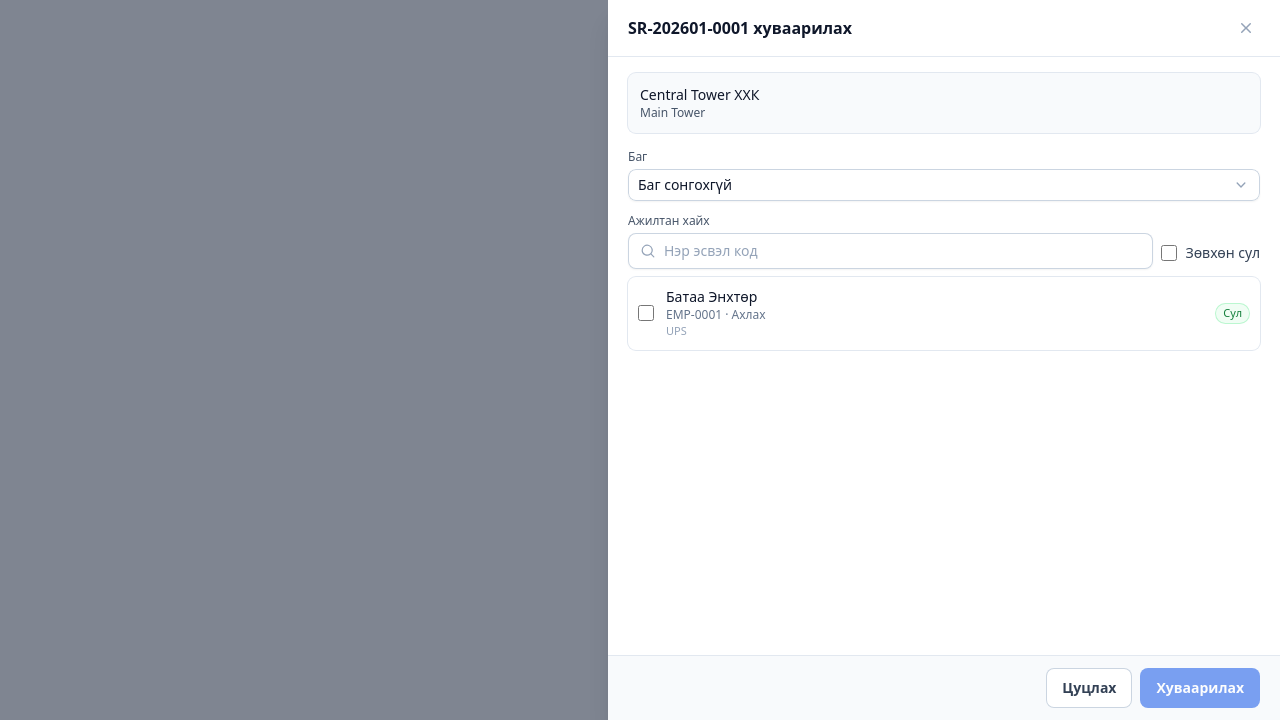
Scenario: AssignDrawer › keeps the assign action disabled until something is selected
expect the button "Хуваарилах" is disabled: met, box [1140,668,1260,708]
What coordinates should you click on to do the following:
click the checkbox labelled "Батаа Энхтөр EMP-0001 · Ахлах UPS Сул"
I would click on:
 (646, 313)
Its box is [638,305,654,321].
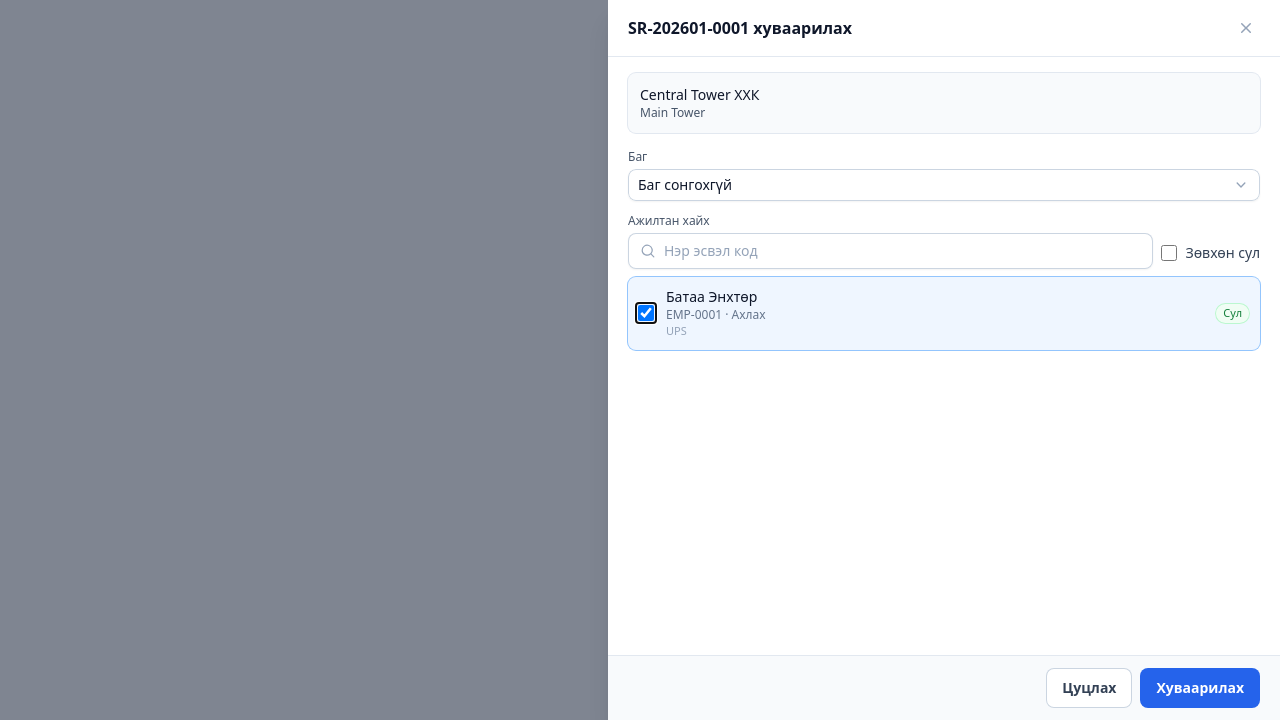
expect the button "Хуваарилах" is enabled: met, box [1140,668,1260,708]
